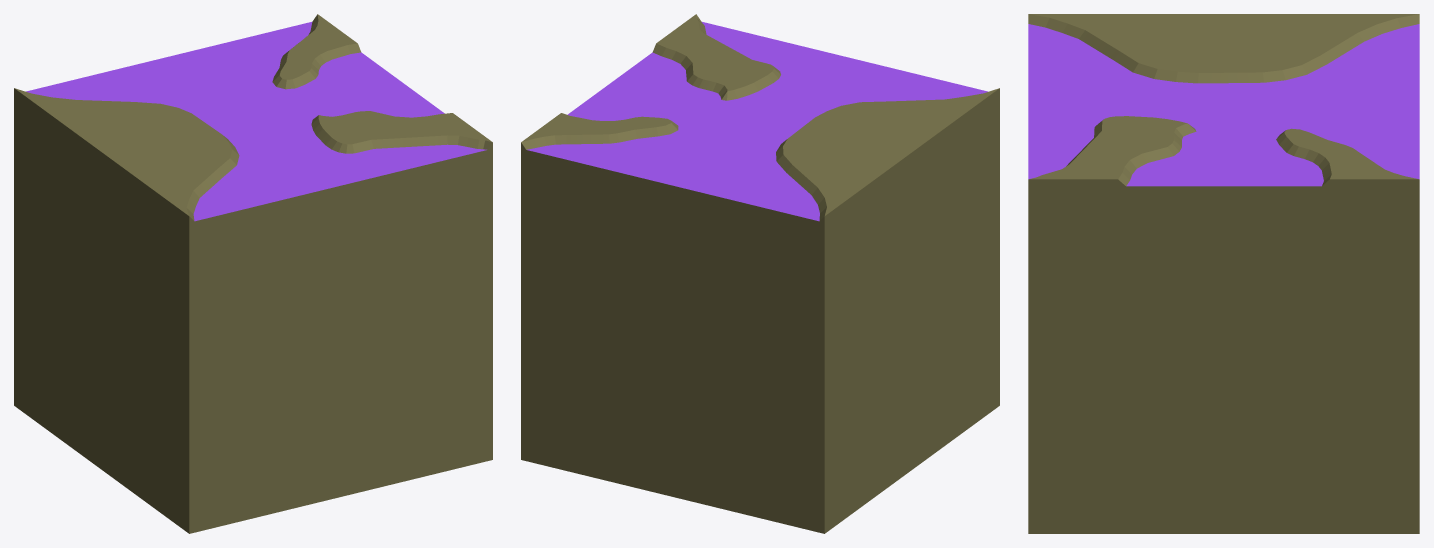
Rendered from tile_toxic_5f_03.fbx.
3 renders of one model, left to right at view 1: azimuth 30°, elevation 25°; view 2: azimuth 150°, elevation 25°; view 3: azimuth 270°, elevation 25°, orthographic. The views are drawn at different scales.
Parts seen in each view (by area): view 1: tile_toxic_5f_03; view 2: tile_toxic_5f_03; view 3: tile_toxic_5f_03.
Part boxes in pixels (x1,y1,x2,y2): tile_toxic_5f_03: (14,14,492,533); tile_toxic_5f_03: (521,14,999,533); tile_toxic_5f_03: (1028,14,1419,533).
Size of the model in its own units: 100 by 100 by 100.
